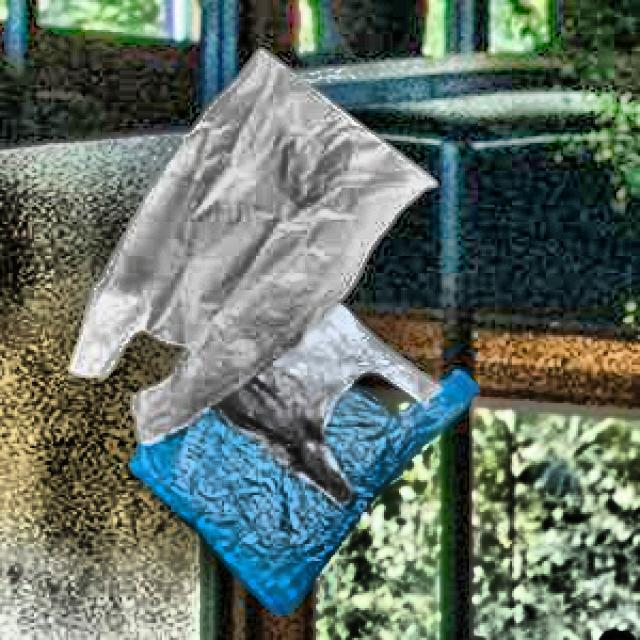Plastic: (70, 46, 438, 468), (161, 242, 437, 511)
